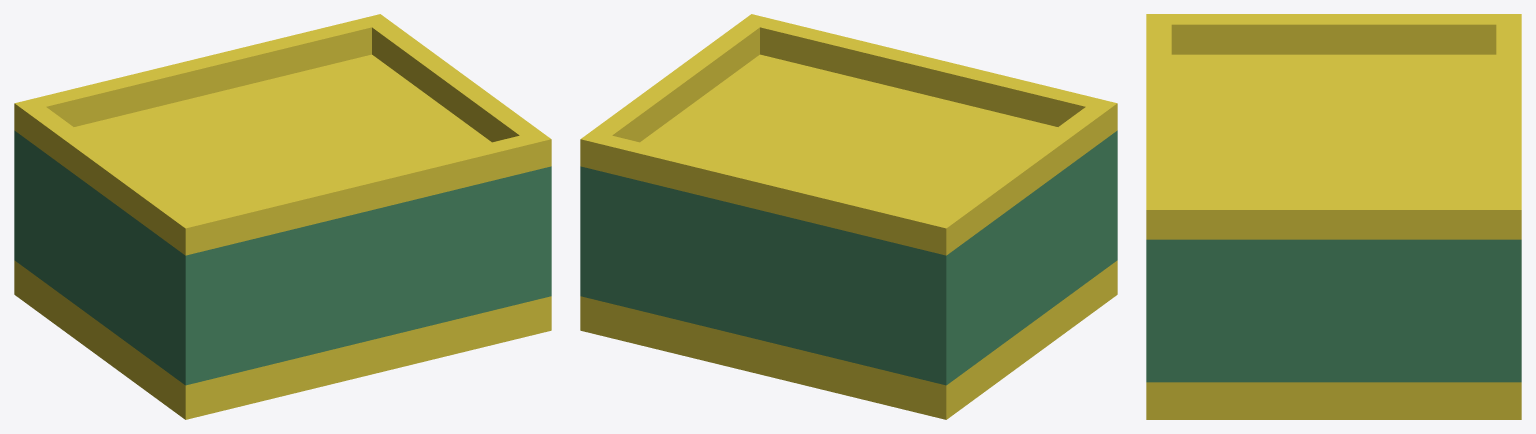
File: Map-Shop-Lv1-Y.fbx
3 renders of one model, left to right at view 1: azimuth 30°, elevation 25°; view 2: azimuth 150°, elevation 25°; view 3: azimuth 270°, elevation 25°, orthographic. The views are drawn at different scales.
Parts seen in each view (by area): view 1: Map-Shop-Lv1-Y; view 2: Map-Shop-Lv1-Y; view 3: Map-Shop-Lv1-Y.
Boxes of the visible parts, x1,y1,x2,y2 form: Map-Shop-Lv1-Y: [14, 14, 551, 419]; Map-Shop-Lv1-Y: [580, 14, 1117, 419]; Map-Shop-Lv1-Y: [1146, 14, 1521, 419].
Size of the model in its own units: 2 by 1 by 1.62.
